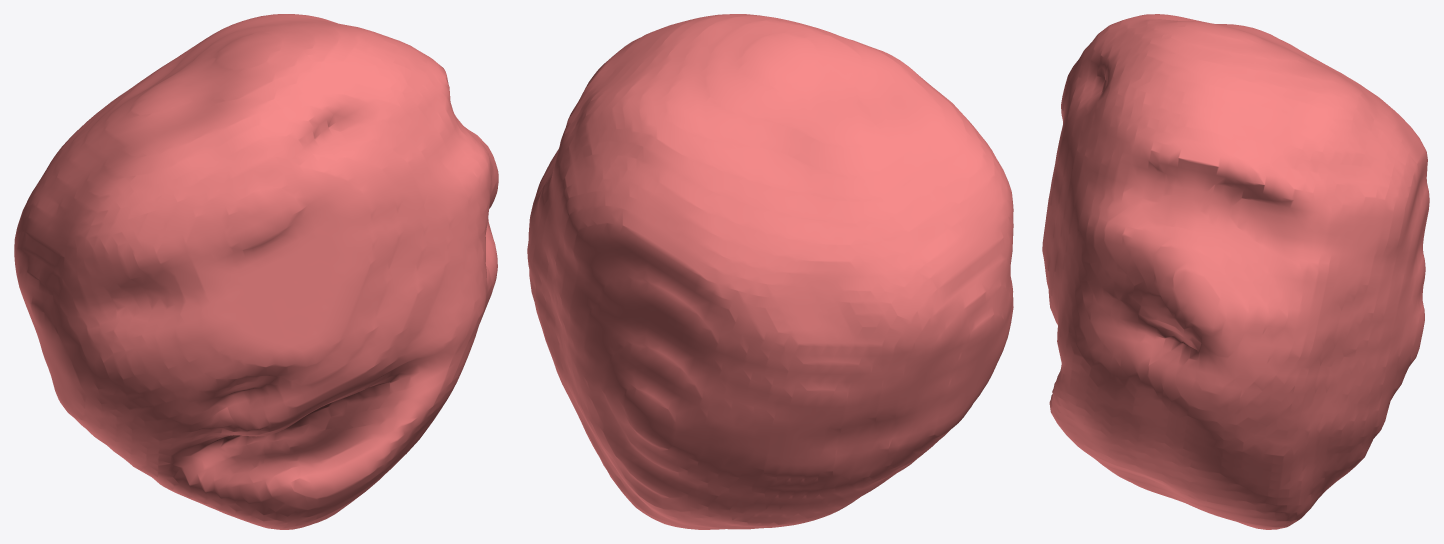
File: ovary.glb
The picture shows the model from 3 angles, left to right: view 1: azimuth 30°, elevation 25°; view 2: azimuth 150°, elevation 25°; view 3: azimuth 270°, elevation 25°; orthographic projection.
Parts seen in each view (by area): view 1: ovary_left; view 2: ovary_left; view 3: ovary_left.
Part boxes in pixels (bbox=[...]): ovary_left: bbox=[14, 14, 498, 529]; ovary_left: bbox=[527, 14, 1013, 529]; ovary_left: bbox=[1042, 14, 1429, 529].
Size of the model in its own units: 0.0271 by 0.0277 by 0.0205.
